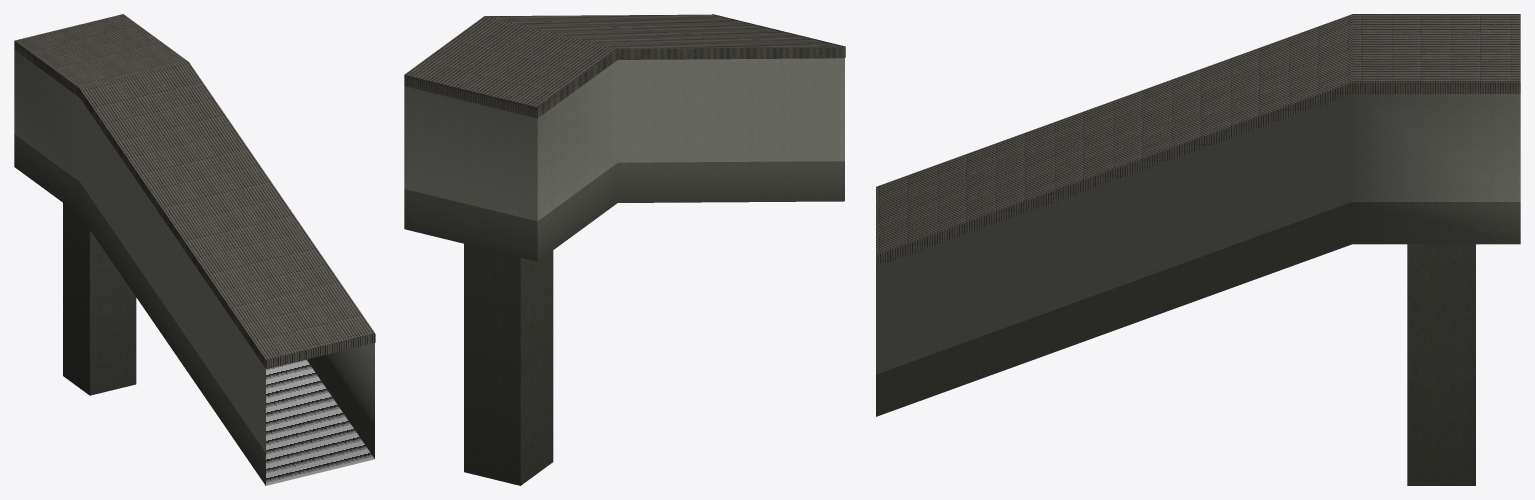
3 views of the same model, side by side, from view 1: azimuth 30°, elevation 25°; view 2: azimuth 150°, elevation 25°; view 3: azimuth 270°, elevation 25° (orthographic). The views are drawn at different scales.
Parts seen in each view (by area): view 1: obj32; view 2: obj32; view 3: obj32.
Boxes of the visible parts, <box> form: obj32: <box>14,14,375,485</box>; obj32: <box>404,14,845,485</box>; obj32: <box>876,14,1520,485</box>.
Size of the model in its own units: 11.77 by 34.02 by 47.08.
Materials: 4 (4 with a texture image).
